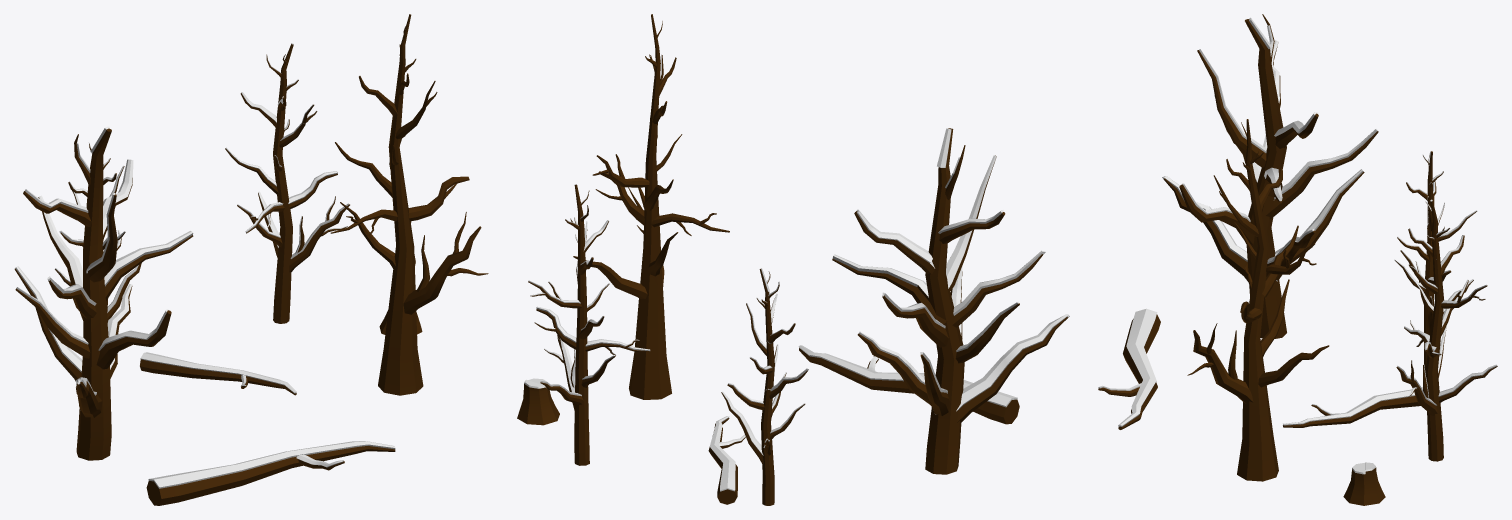
File: Trees_with_snow.fbx
3 views of the same model, side by side, from view 1: azimuth 30°, elevation 25°; view 2: azimuth 150°, elevation 25°; view 3: azimuth 270°, elevation 25° (orthographic). The views are drawn at different scales.
Parts seen in each view (by area): view 1: Dead_tree_1, Father_tree, Dead_tree_3, Dead_branch, Dead_branch1, Dead_tree_2; view 2: Dead_tree_1, Father_tree, Dead_tree_3, Dead_tree_2, Dead_branch, Dead_branch1, Tree_stump; view 3: Dead_tree_1, Father_tree, Dead_tree_3, Dead_branch, Dead_tree_2, Dead_branch1, Tree_stump.
Part boxes in pixels (box(x1,y1,x2,y2)): Dead_tree_1: box(14, 126, 193, 460); Father_tree: box(330, 14, 488, 395); Dead_tree_3: box(225, 43, 349, 323); Dead_branch: box(146, 441, 395, 505); Dead_branch1: box(140, 352, 296, 395); Dead_tree_2: box(55, 143, 141, 322); Dead_tree_1: box(832, 128, 1069, 474); Father_tree: box(573, 14, 729, 399); Dead_tree_3: box(528, 184, 650, 465); Dead_tree_2: box(721, 268, 809, 505); Dead_branch: box(798, 345, 1019, 424); Dead_branch1: box(708, 416, 745, 504); Tree_stump: box(517, 378, 559, 425); Dead_tree_1: box(1162, 14, 1378, 338); Father_tree: box(1187, 119, 1329, 481); Dead_tree_3: box(1396, 199, 1497, 461); Dead_branch: box(1098, 308, 1160, 429); Dead_tree_2: box(1394, 150, 1477, 372); Dead_branch1: box(1283, 387, 1422, 427); Tree_stump: box(1343, 462, 1385, 505).
Size of the model in its own units: 818 by 660 by 657.
